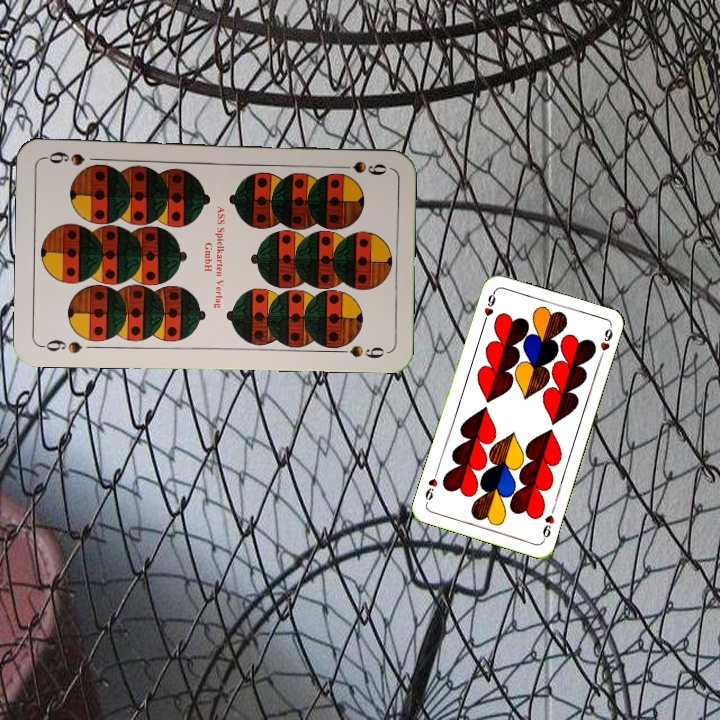H9: (479, 287, 498, 327), (538, 504, 557, 543)
S9: (331, 157, 390, 177), (38, 336, 85, 356)
